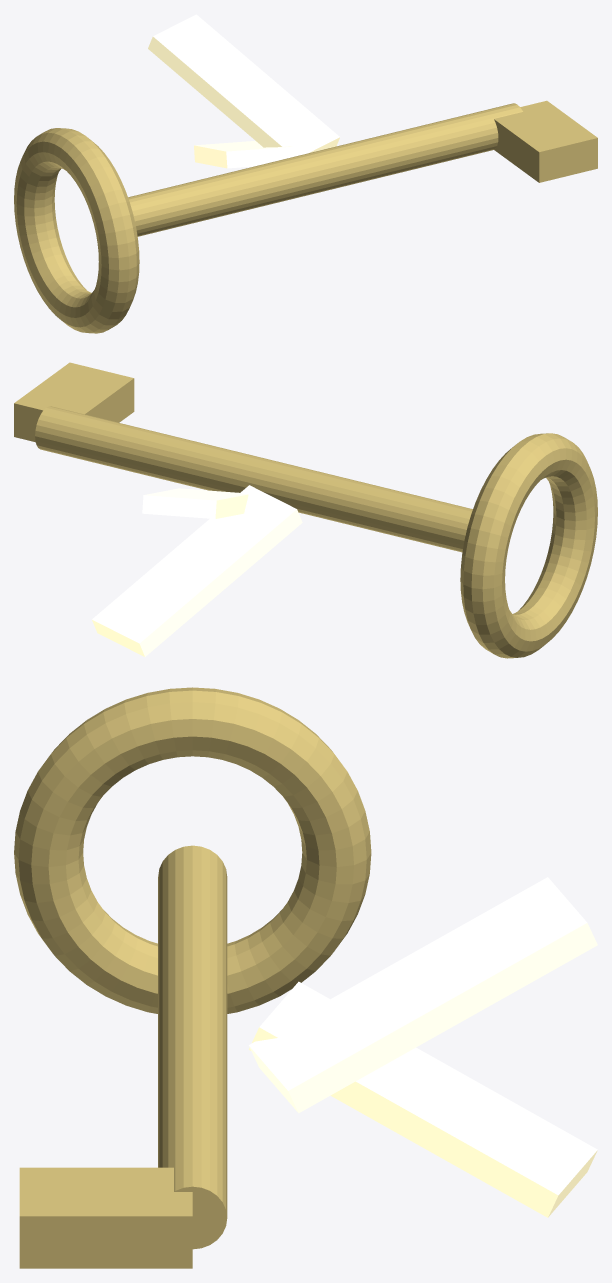
The model's file is flying_key.glb.
The picture shows the model from 3 angles, top to bottom: view 1: azimuth 30°, elevation 25°; view 2: azimuth 150°, elevation 25°; view 3: azimuth 270°, elevation 25°; orthographic projection. The views are drawn at different scales.
Visible parts, largest first — view 1: key_bow, key_shaft, wing_l, key_bit, wing_r; view 2: key_bow, key_shaft, wing_r, key_bit, wing_l; view 3: key_bow, wing_l, key_shaft, wing_r, key_bit.
Boxes of the visible parts, left/top/right/bottom form: key_bow: left=14, top=128, right=139, bottom=333; key_shaft: left=128, top=103, right=522, bottom=236; wing_l: left=148, top=14, right=339, bottom=156; key_bit: left=494, top=100, right=597, bottom=182; wing_r: left=194, top=141, right=293, bottom=168; key_bow: left=460, top=433, right=597, bottom=658; key_shaft: left=35, top=406, right=472, bottom=552; wing_r: left=92, top=485, right=302, bottom=656; key_bit: left=14, top=362, right=134, bottom=442; wing_l: left=142, top=488, right=248, bottom=518; key_bow: left=14, top=687, right=371, bottom=1013; wing_l: left=248, top=877, right=597, bottom=1113; key_shaft: left=158, top=845, right=227, bottom=1249; wing_r: left=249, top=981, right=597, bottom=1217; key_bit: left=19, top=1167, right=192, bottom=1268.
Bounding box in the file's own units: 0.332 × 0.124 × 0.2026.
